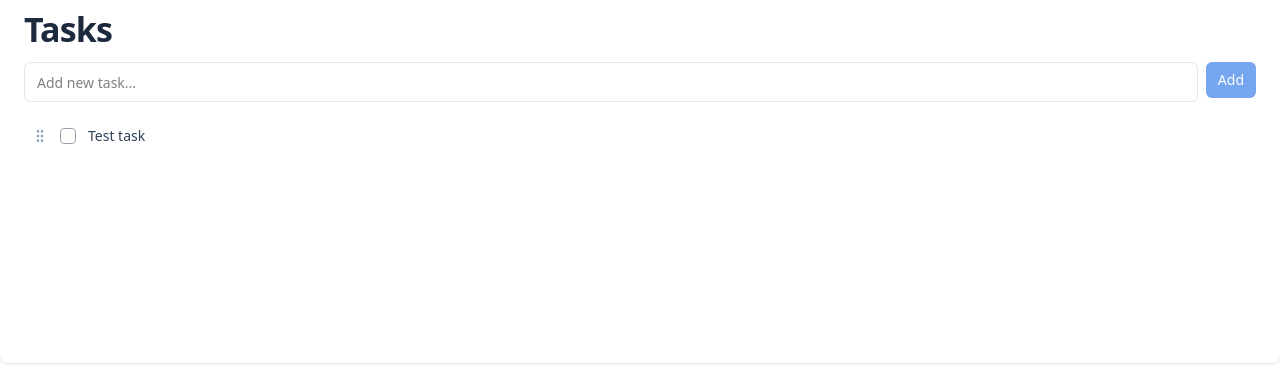
it: TasksCard › allows adding new tasks
The width and height of the screenshot is (1280, 381).
Type "New test task" into the field with placeholder "Add new task..." at (611, 82), box [24,62,1198,102]
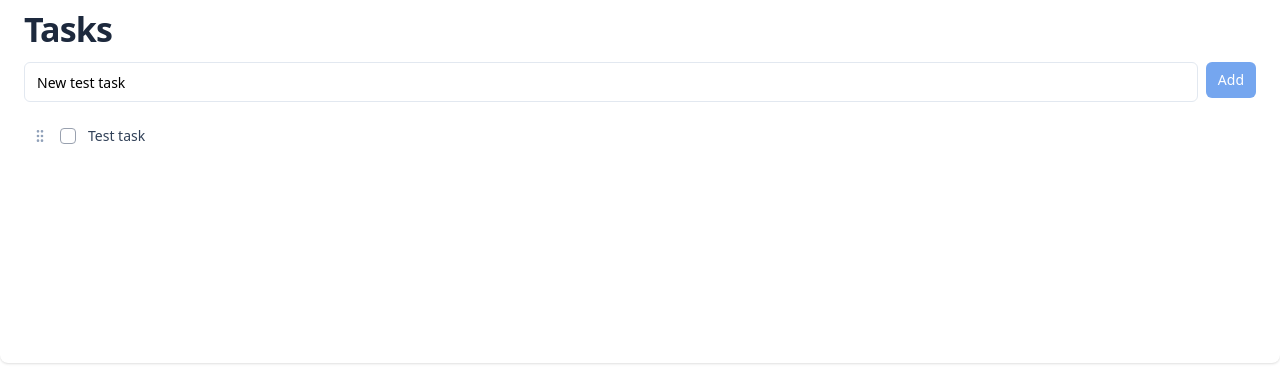
Click the button "Add" at (1231, 80), box [1206,62,1256,98]
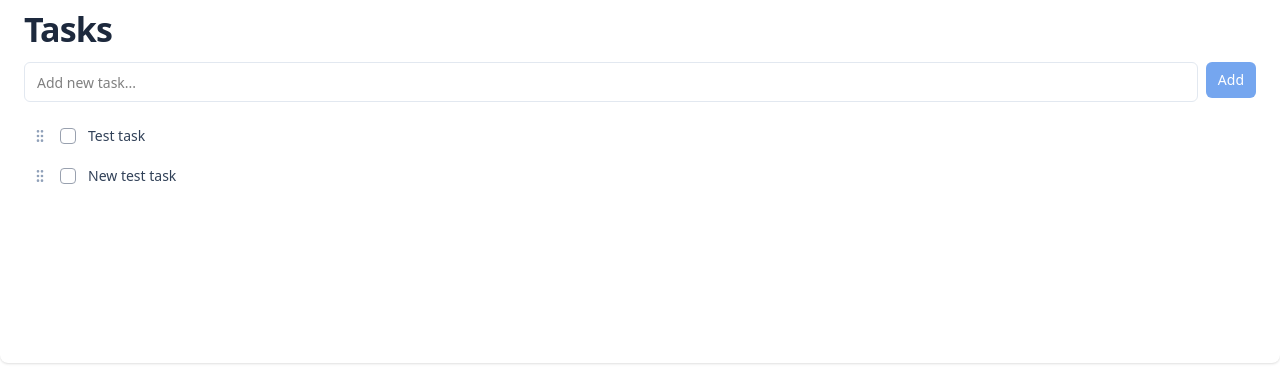
Result: the text "New test task" is shown at [88,166,176,185]
